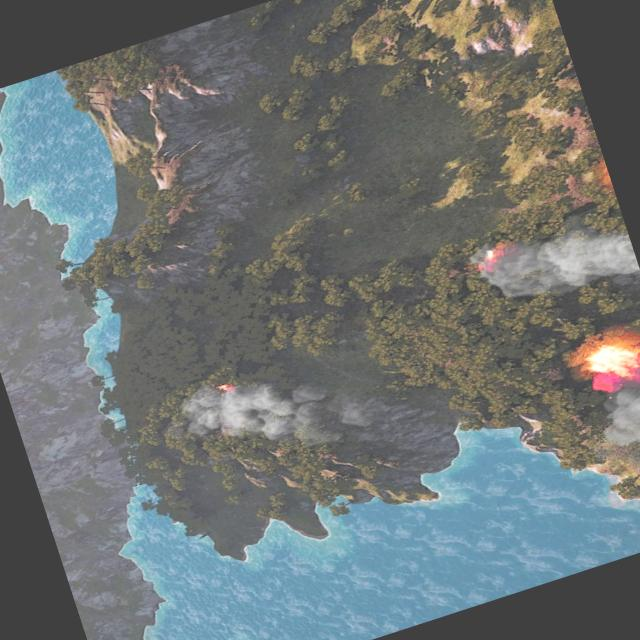fire: (579, 331, 640, 394), (476, 241, 514, 273), (213, 378, 237, 396)
smoke: (465, 195, 640, 363), (174, 354, 340, 484), (589, 374, 640, 463)
